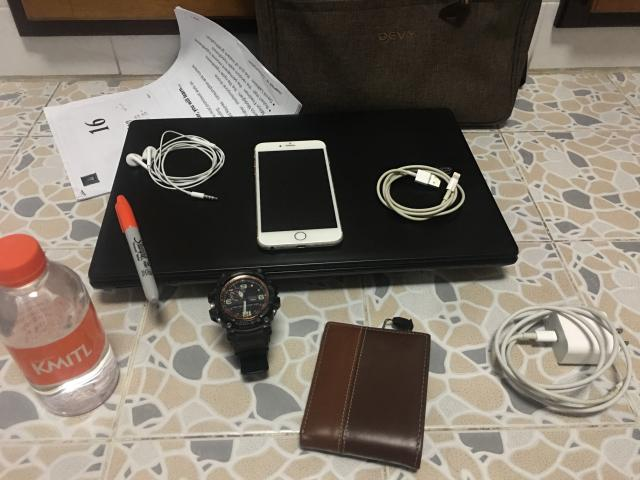Mobile phone: (254, 140, 342, 250)
Pen: (115, 195, 159, 304)
Wallet: (300, 322, 431, 470)
Watch: (208, 270, 280, 375)
bottle: (0, 234, 119, 415)
paper: (43, 6, 300, 200)
wire: (494, 305, 632, 415), (126, 130, 225, 200), (376, 165, 465, 221)
